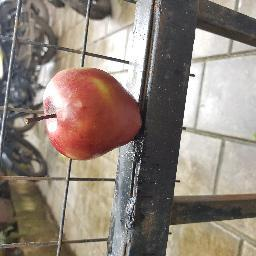Good_apple: (41, 65, 140, 160)
